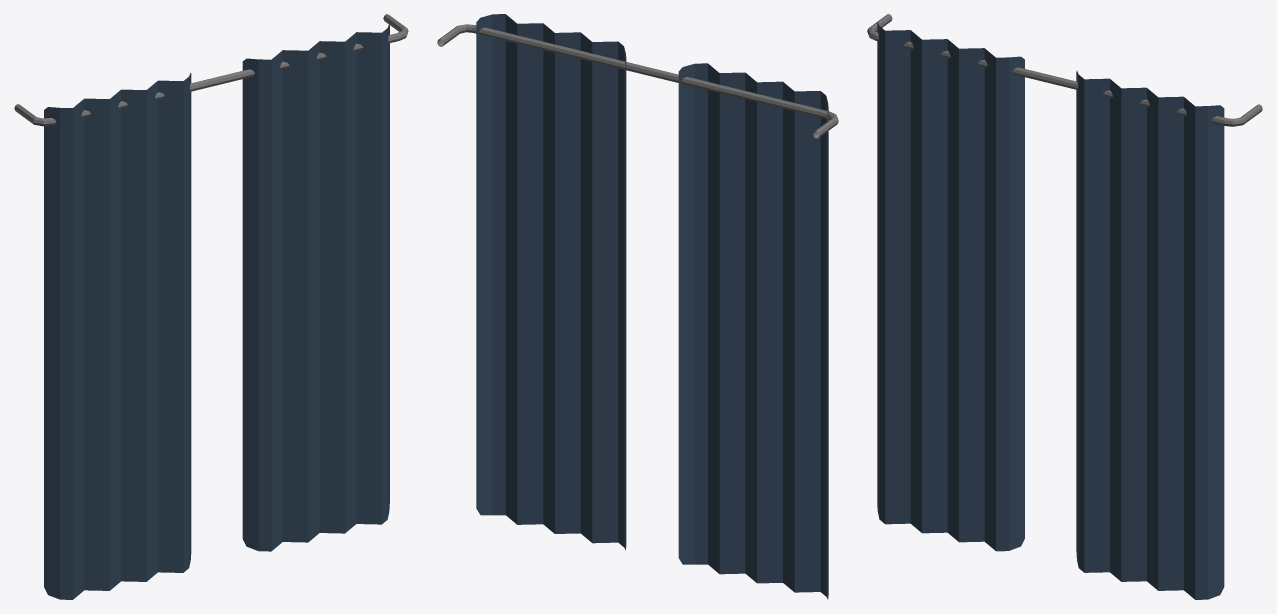
Rendered from home_curtains_double.fbx.
The picture shows the model from 3 angles, left to right: view 1: azimuth 30°, elevation 25°; view 2: azimuth 150°, elevation 25°; view 3: azimuth 330°, elevation 25°; orthographic projection.
Visible parts, largest first — view 1: home_curtains_double_LOD0; view 2: home_curtains_double_LOD0; view 3: home_curtains_double_LOD0.
Boxes of the visible parts, left/top/right/bottom form: home_curtains_double_LOD0: left=14, top=14, right=408, bottom=599; home_curtains_double_LOD0: left=437, top=14, right=838, bottom=599; home_curtains_double_LOD0: left=867, top=14, right=1262, bottom=599.
Size of what is drawn, in the model's own units: 1.92 by 2.4 by 0.2632.
